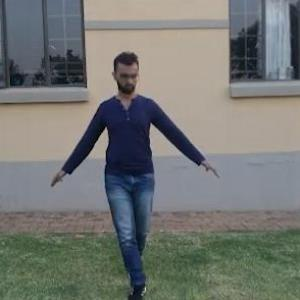land: (55, 33, 221, 284)
